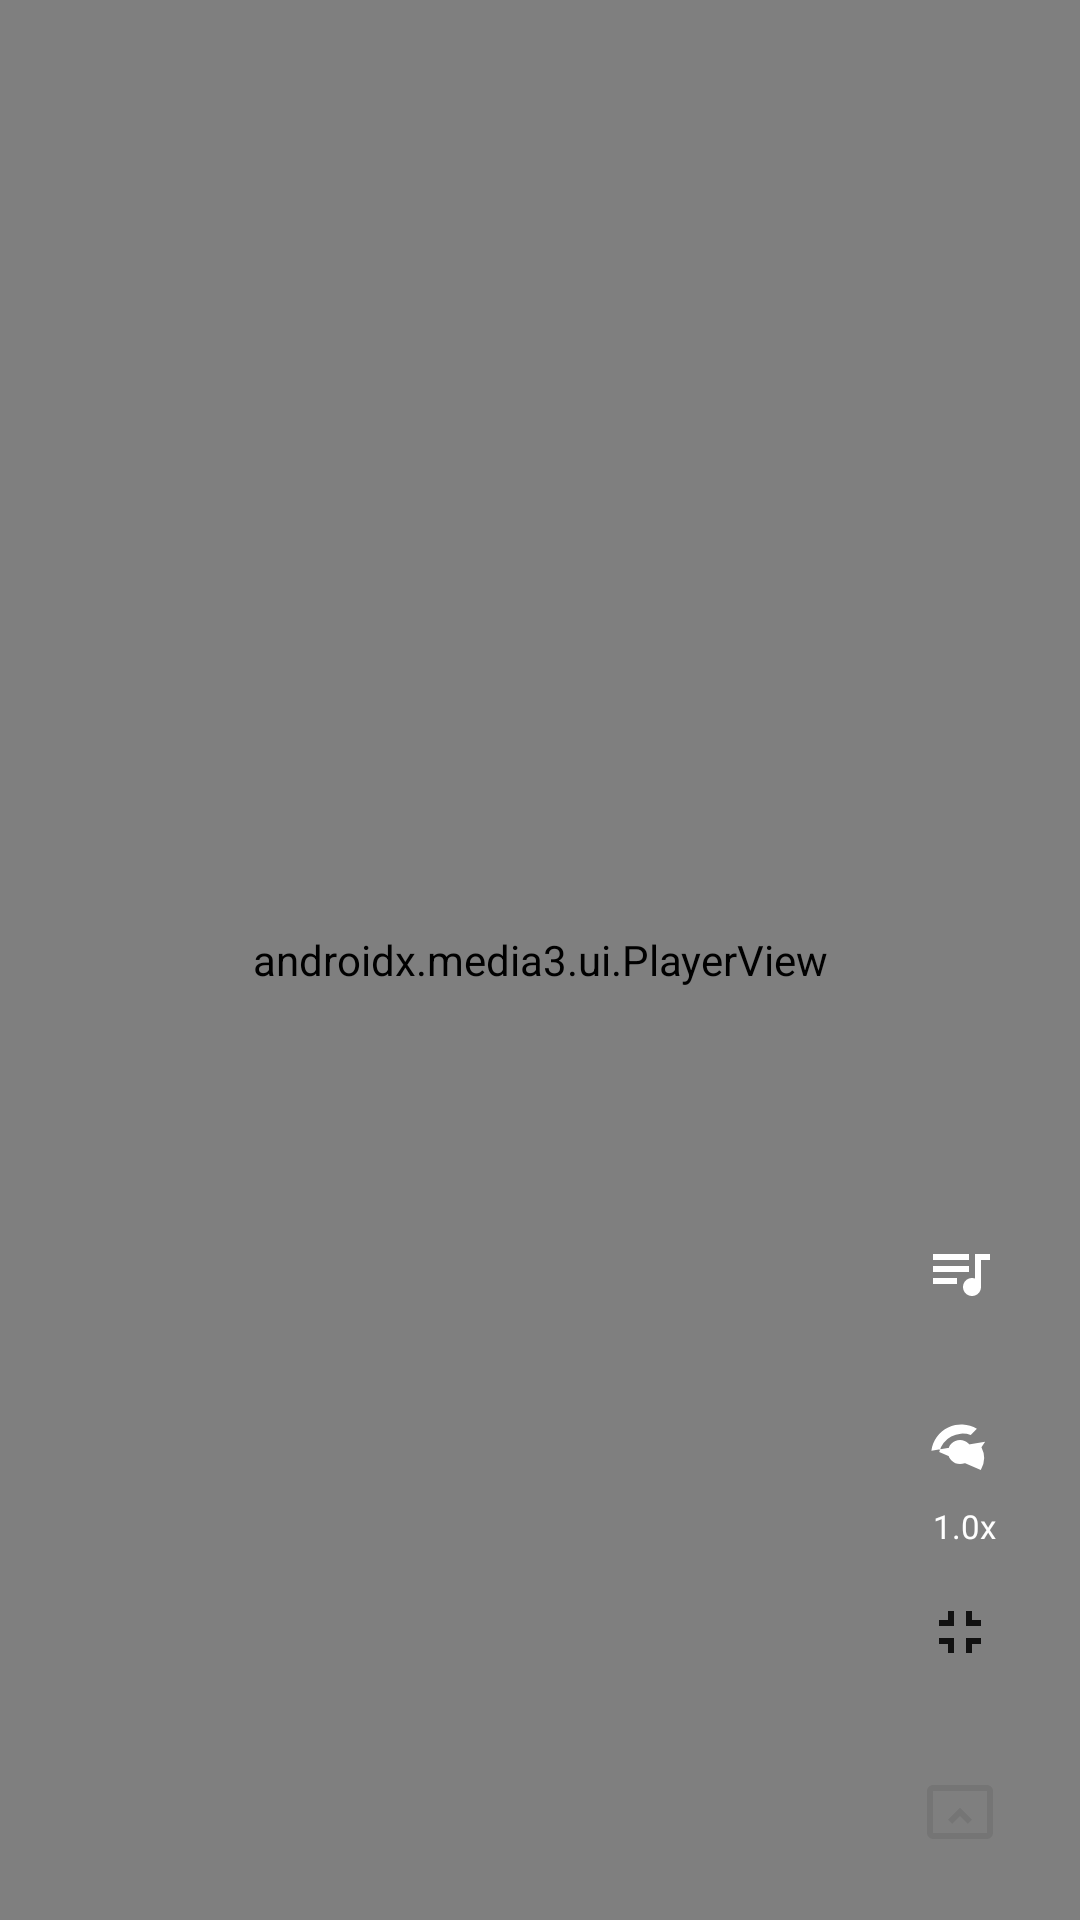

Screen size 1080 × 1920. Icon name, then its box in pixels as (x1, y1, x2, y2):
全屏: (939, 1611, 981, 1653)
播放速度: (931, 1424, 985, 1470)
播放队列: (933, 1254, 990, 1296)
